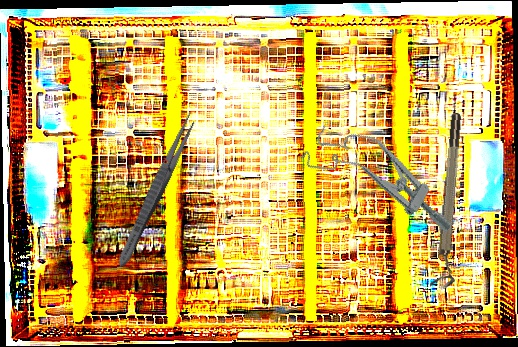Dressing Forceps: (112, 109, 201, 271)
Fixation Ring: (429, 112, 473, 290)
Speculum: (297, 110, 471, 244)
